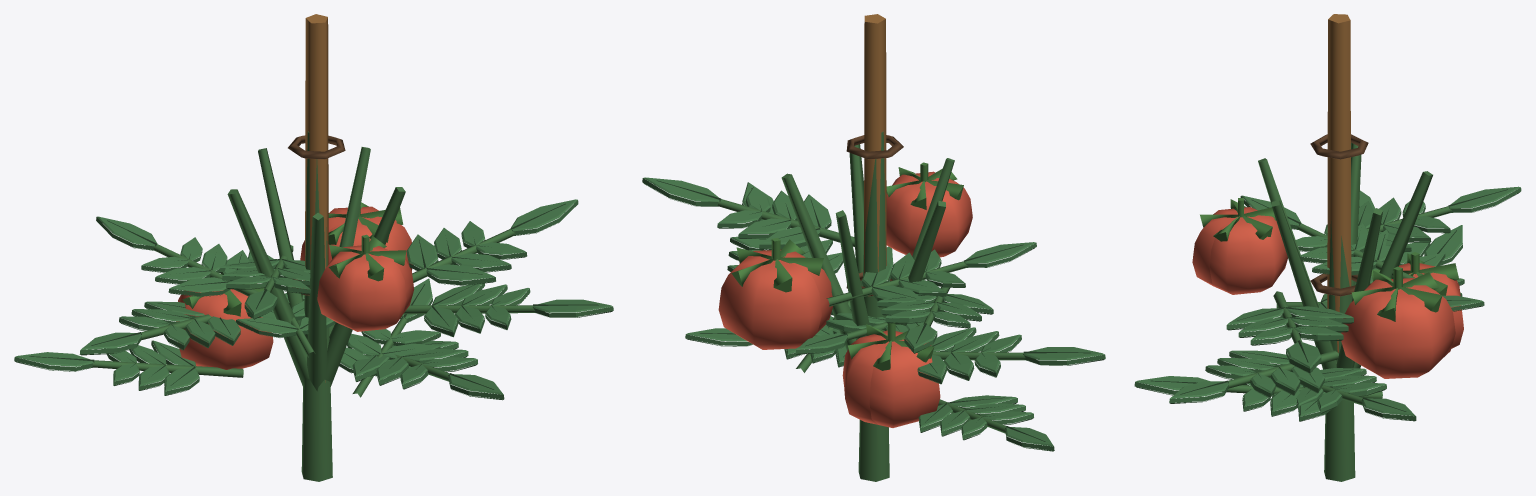
File: tomato.glb
3 renders of one model, left to right at view 1: azimuth 30°, elevation 25°; view 2: azimuth 150°, elevation 25°; view 3: azimuth 270°, elevation 25°, orthographic.
Parts seen in each view (by area): view 1: cropLeafInstances, cropStemInstances, cropFruitInstances, cropSupportInstances; view 2: cropLeafInstances, cropFruitInstances, cropStemInstances, cropSupportInstances; view 3: cropLeafInstances, cropFruitInstances, cropStemInstances, cropSupportInstances.
Part boxes in pixels (x1,y1,x2,y2): cropLeafInstances: (14,199,613,400); cropStemInstances: (227,131,405,481); cropFruitInstances: (176,196,414,369); cropSupportInstances: (288,14,345,382); cropLeafInstances: (642,177,1105,451); cropFruitInstances: (718,162,972,427); cropStemInstances: (781,131,954,481); cropSupportInstances: (846,14,903,296); cropLeafInstances: (1134,186,1521,421); cropFruitInstances: (1192,198,1463,378); cropStemInstances: (1258,142,1432,481); cropSupportInstances: (1310,14,1368,352).
Size of what is drawn, in the model's own units: 1.66 by 1.48 by 1.14.
